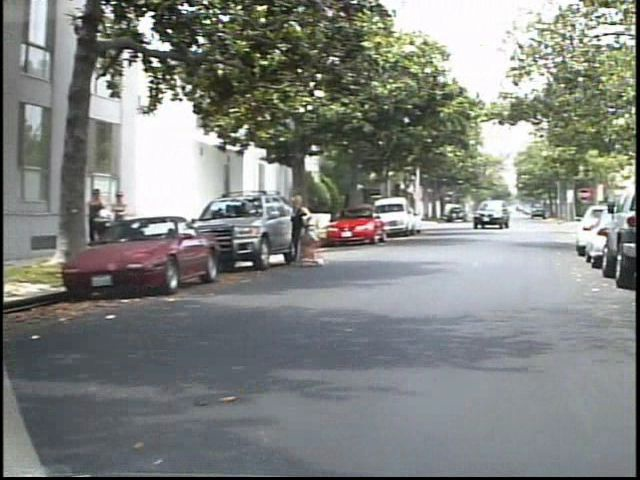person: (293, 192, 325, 274), (96, 185, 122, 254), (122, 186, 146, 250)
